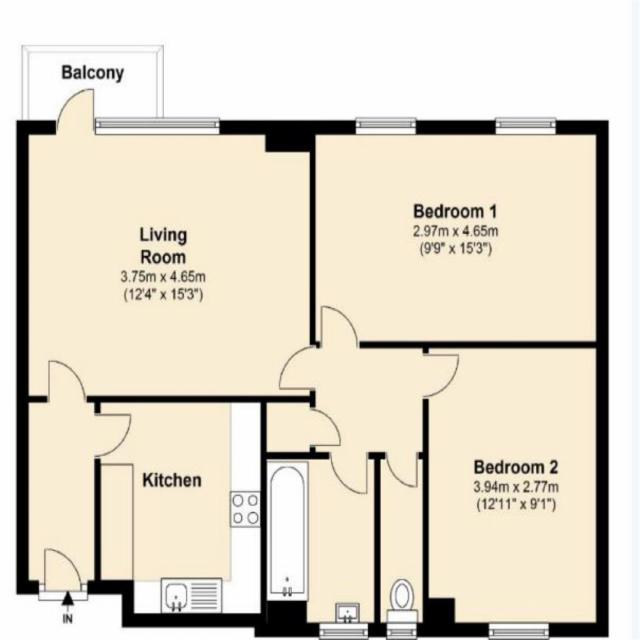DOOR: (38, 547, 89, 602), (55, 86, 96, 135), (45, 357, 88, 403), (94, 411, 133, 460), (422, 352, 461, 400), (278, 343, 316, 392), (327, 452, 369, 496), (318, 304, 360, 348), (384, 451, 419, 489)
ROOM: (16, 86, 316, 404), (309, 116, 609, 349), (422, 341, 609, 640), (93, 396, 267, 637)
WINDOW: (93, 114, 222, 138), (487, 620, 550, 640), (354, 116, 417, 136), (494, 117, 557, 136), (318, 621, 370, 640), (385, 621, 418, 640)
